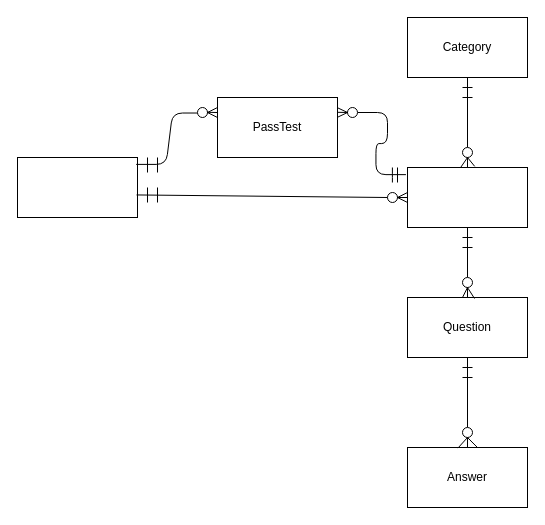
Some shapes in this 545 by 525 pixel diagram are drawn without their labels. The centre of each missing label's shape, as x and y in pixels:
Test: the point at 467,197
User: the point at 77,187
